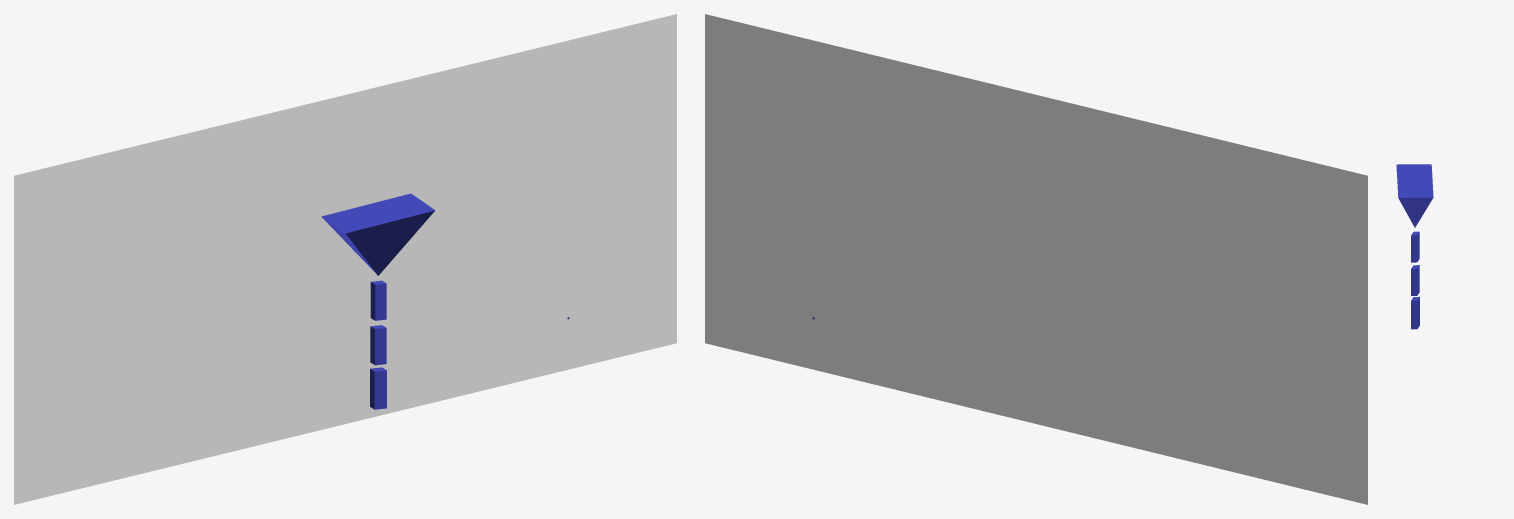
Rendered from insert.fbx.
3 views of the same model, side by side, from view 1: azimuth 30°, elevation 25°; view 2: azimuth 150°, elevation 25°; view 3: azimuth 270°, elevation 25° (orthographic). The views are drawn at different scales.
Visible parts, largest first — view 1: root (×2); view 2: root; view 3: root, node_id98, node_id99, node_id100.
Part boxes in pixels (x1=…): root (×2): x1=14, y1=14, x2=676, y2=504; root: x1=705, y1=14, x2=1367, y2=504; root: x1=1396, y1=164, x2=1433, y2=227; node_id98: x1=1411, y1=296, x2=1419, y2=329; node_id99: x1=1411, y1=231, x2=1419, y2=262; node_id100: x1=1411, y1=265, x2=1419, y2=295.
Size of the model in its own units: 1.42 by 0.672 by 0.2537.
Materials: 3 (1 with a texture image).
